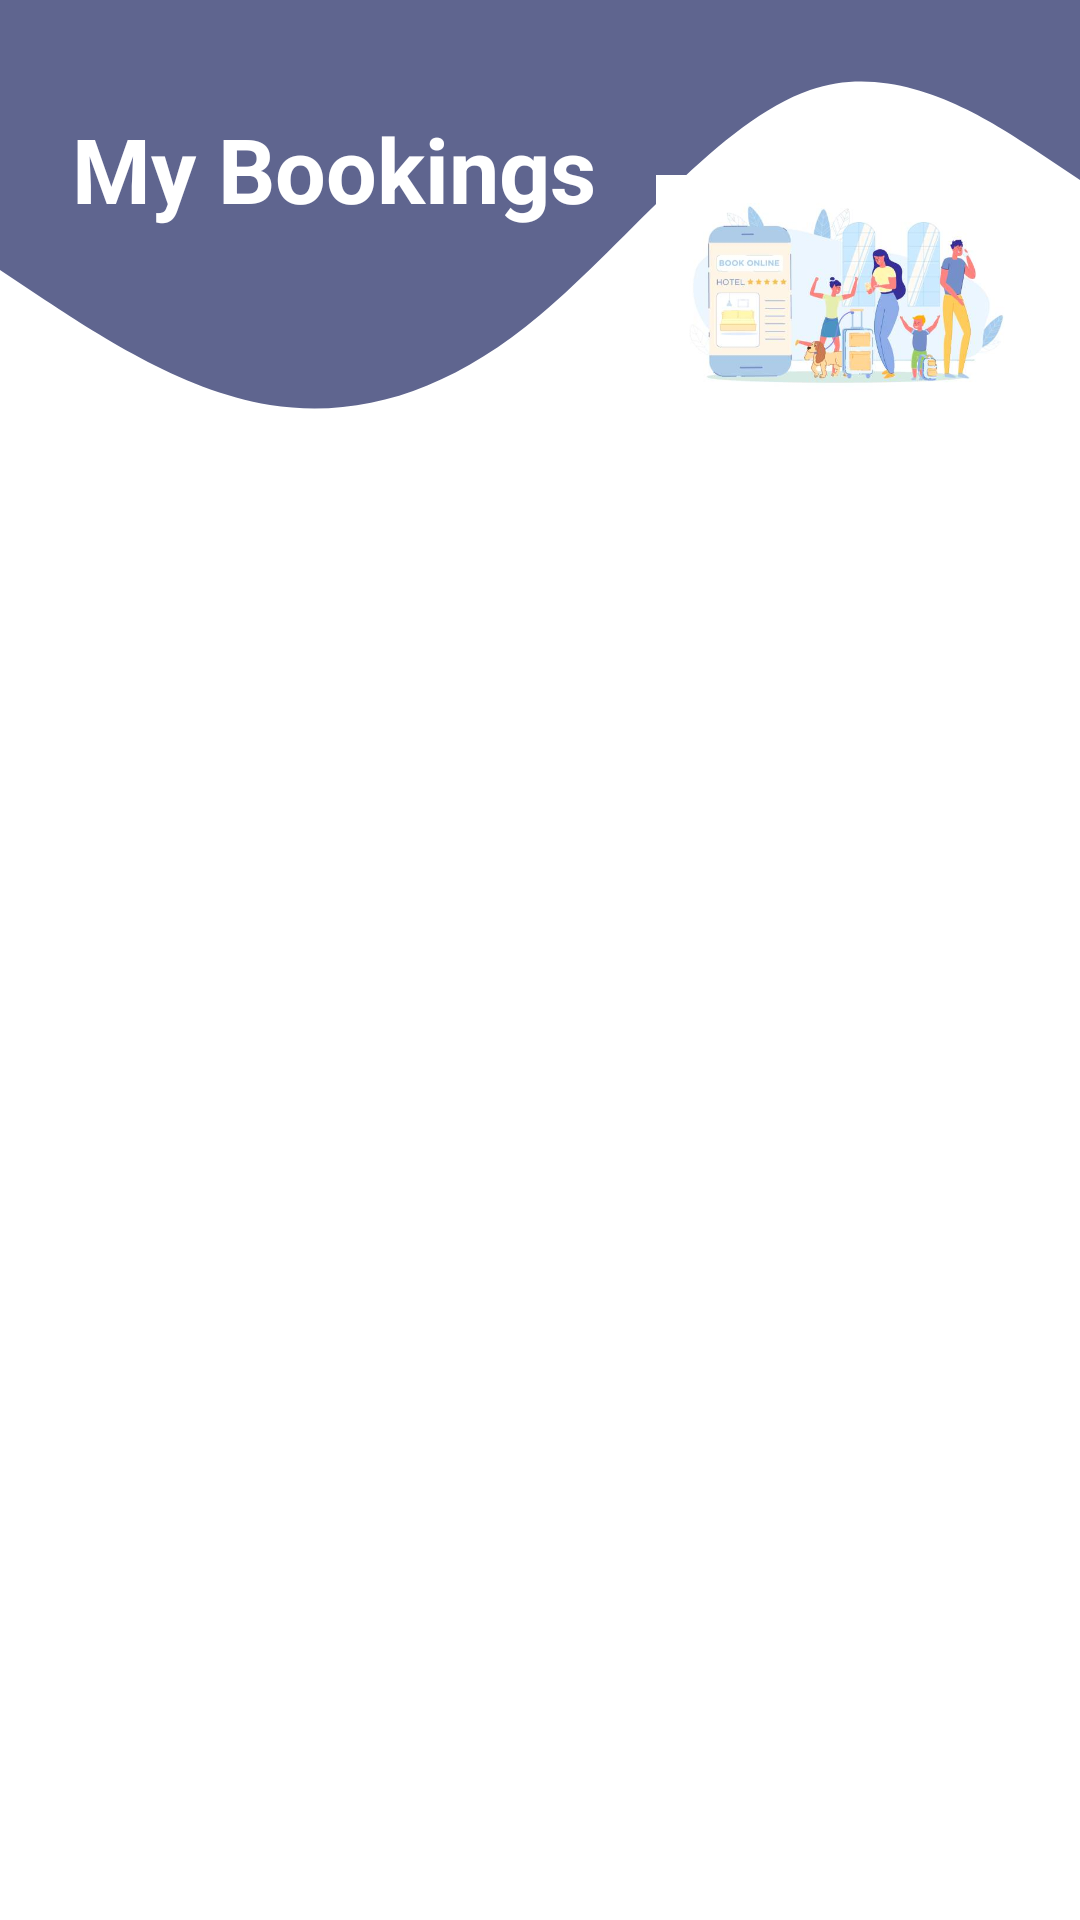

Named icons in this screenshot (1080×1920) and their centers, (x=x, y=y):
bookkimg: (x=855, y=294)
